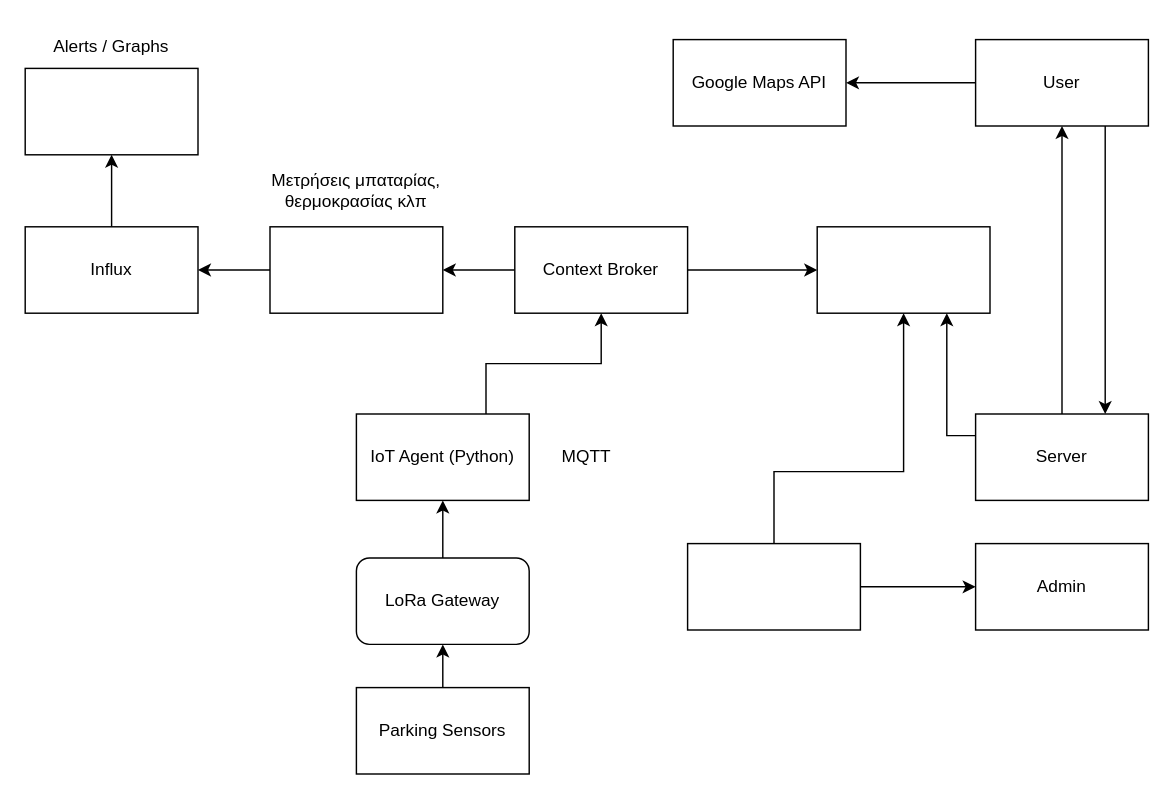
This 1174x799 diagram has some shape labels left out. Each missing label, with the centre of its shape:
"Grafana" belongs at (x=111, y=111).
"MySQL" belongs at (x=903, y=269).
"Server (Historical Data)" belongs at (x=773, y=586).
"Subscriber (Python)" belongs at (x=356, y=269).
